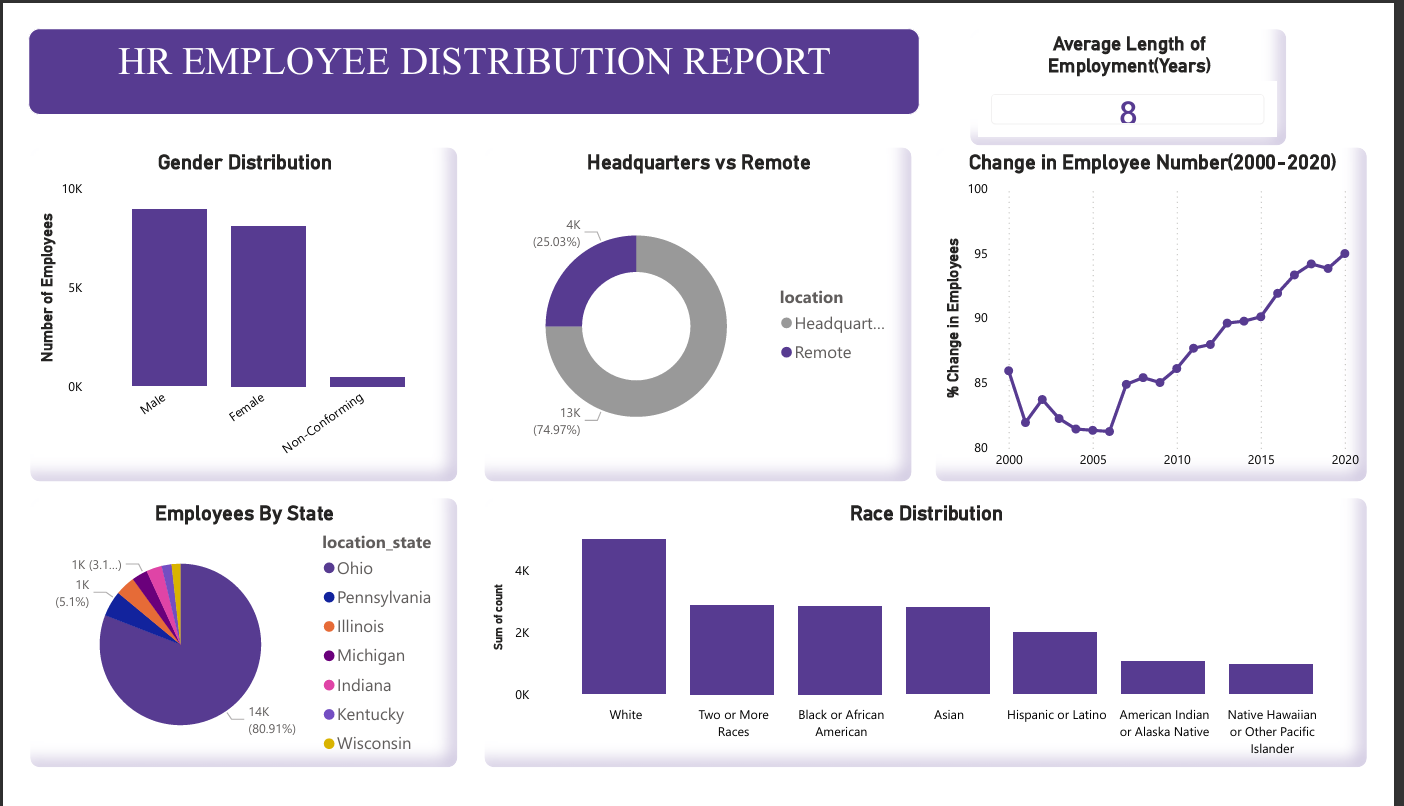

This screenshot's page, from the dashboard's own definition file:
{"tool":"powerbi","page":{"name":"Page 1","canvas":[1280,720],"ordinal":0},"visuals":[{"type":"textbox","box":[0,0,852.1,83.3],"z":0},{"type":"cardVisual","title":"Average Length of Employment(Years)","fields":{"Data":["Sum(avg_length_employement.avg_length_employment)"]},"box":[899.4,0,303.5,113.2],"z":1000},{"type":"columnChart","title":"Gender Distribution","fields":{"Y":["Sum(gender.count)"],"Category":["gender.gender"]},"box":[1.2,113.2,409.3,320.9],"z":2000},{"type":"donutChart","title":"Headquarters vs Remote","fields":{"Y":["Sum(location.count)"],"Category":["location.location"]},"box":[435.4,113.2,409.3,320.9],"z":3000},{"type":"lineChart","title":"Change in Employee Number(2000-2020)","fields":{"Category":["avg_hire_teminate.year"],"Y":["Sum(avg_hire_teminate.net_change_percent)"]},"box":[865.8,113.2,414.2,320.9],"z":4000},{"type":"pieChart","title":"Employees By State","fields":{"Y":["Sum(state.count)"],"Category":["state.location_state"]},"box":[1.2,447.8,409.3,258.7],"z":5000},{"type":"clusteredColumnChart","title":"Race Distribution","fields":{"Category":["race.race"],"Y":["Sum(race.count)"]},"box":[435.4,447.8,844.6,258.7],"z":6000}]}

Visuals, with their boxes in screenshot pixels (x1, y1, x2, y2), scaled from the page's 1280x720 canvas onto the 1404x806 screenshot:
textbox: (left=0, top=0, right=935, bottom=93)
"Average Length of Employment(Years)" cardVisual: (left=987, top=0, right=1319, bottom=127)
"Gender Distribution" columnChart: (left=1, top=127, right=450, bottom=486)
"Headquarters vs Remote" donutChart: (left=478, top=127, right=927, bottom=486)
"Change in Employee Number(2000-2020)" lineChart: (left=950, top=127, right=1403, bottom=486)
"Employees By State" pieChart: (left=1, top=501, right=450, bottom=791)
"Race Distribution" clusteredColumnChart: (left=478, top=501, right=1403, bottom=791)
